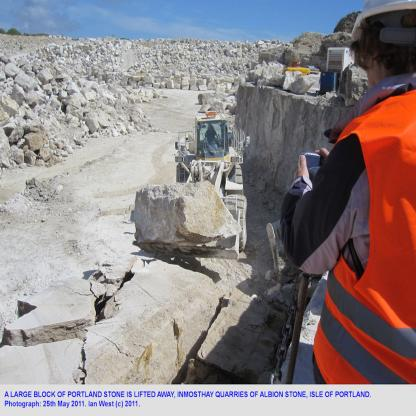person: (272, 8, 416, 384)
